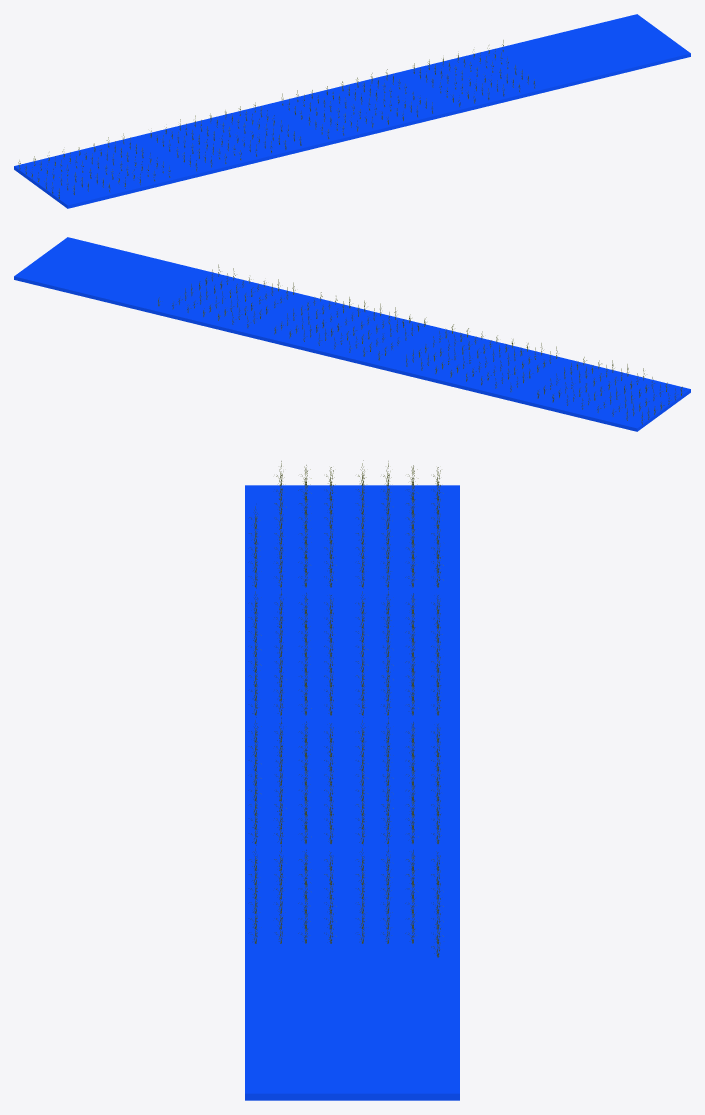
File: 试验田1.glb
3 renders of one model, top to bottom at view 1: azimuth 30°, elevation 25°; view 2: azimuth 150°, elevation 25°; view 3: azimuth 270°, elevation 25°, orthographic. The views are drawn at different scales.
Visible parts, largest first — view 1: 立方体.006; view 2: 立方体.006; view 3: 立方体.006.
Part boxes in pixels (x1,y1,x2,y2): 立方体.006: (14,14,690,208); 立方体.006: (14,237,690,431); 立方体.006: (245,485,459,1100).
Bounding box in the file's own units: 42.94 × 1.06 × 6.39.
2 materials, 1 textured.
